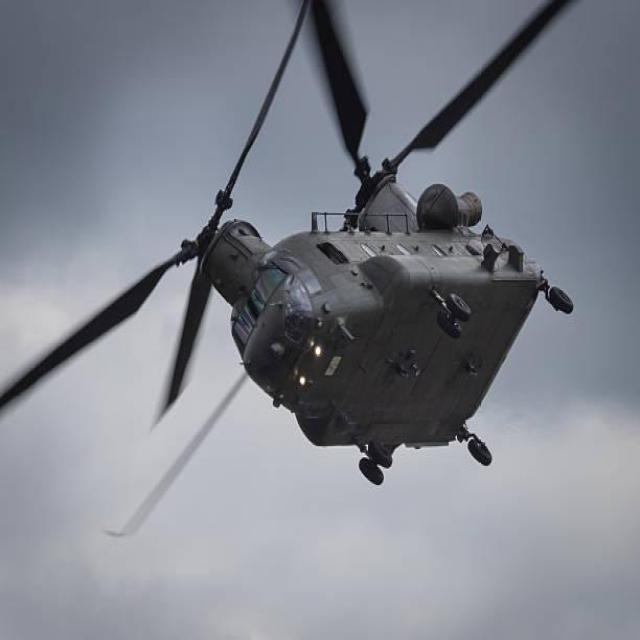Helicopter: (141, 128, 544, 478)
